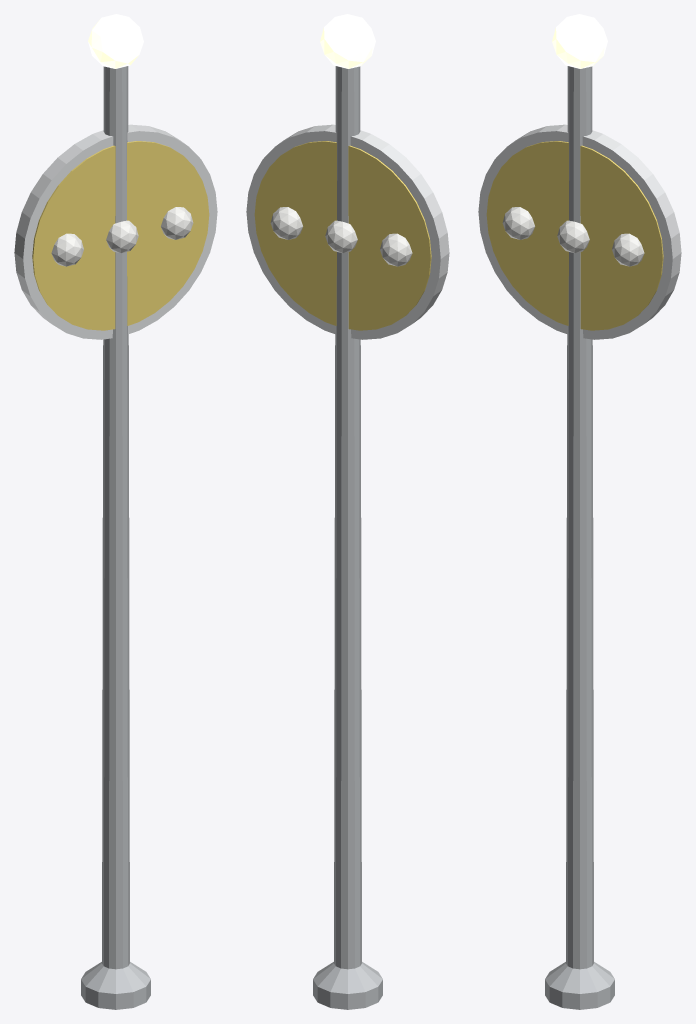
The model's file is bay_pole_3.glb.
3 views of the same model, side by side, from view 1: azimuth 30°, elevation 25°; view 2: azimuth 150°, elevation 25°; view 3: azimuth 330°, elevation 25° (orthographic).
Visible parts, largest first — view 1: bay_pole_3_steel, bay_pole_3_sign_y, bay_pole_3_chrome, bay_pole_3_paint_w, bay_pole_3_lamp_glass; view 2: bay_pole_3_steel, bay_pole_3_sign_y, bay_pole_3_chrome, bay_pole_3_paint_w, bay_pole_3_lamp_glass; view 3: bay_pole_3_steel, bay_pole_3_sign_y, bay_pole_3_chrome, bay_pole_3_paint_w, bay_pole_3_lamp_glass.
Boxes of the visible parts, box(x1,y1,x2,y2) form: bay_pole_3_steel: box(81, 66, 150, 1009); bay_pole_3_sign_y: box(32, 141, 209, 330); bay_pole_3_chrome: box(14, 124, 217, 339); bay_pole_3_paint_w: box(51, 207, 193, 266); bay_pole_3_lamp_glass: box(88, 14, 143, 68); bay_pole_3_steel: box(313, 66, 382, 1009); bay_pole_3_sign_y: box(254, 141, 431, 330); bay_pole_3_chrome: box(246, 124, 449, 339); bay_pole_3_paint_w: box(270, 207, 412, 266); bay_pole_3_lamp_glass: box(320, 14, 375, 68); bay_pole_3_steel: box(545, 66, 614, 1009); bay_pole_3_sign_y: box(486, 141, 663, 330); bay_pole_3_chrome: box(478, 124, 681, 339); bay_pole_3_paint_w: box(502, 207, 644, 266); bay_pole_3_lamp_glass: box(552, 14, 607, 68).
Size of the model in its own units: 0.64 by 3.08 by 0.2.
